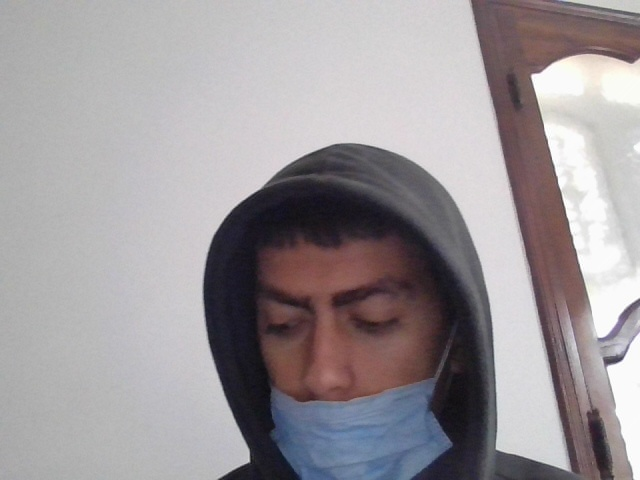mask_weared_incorrect: (236, 191, 461, 478)
